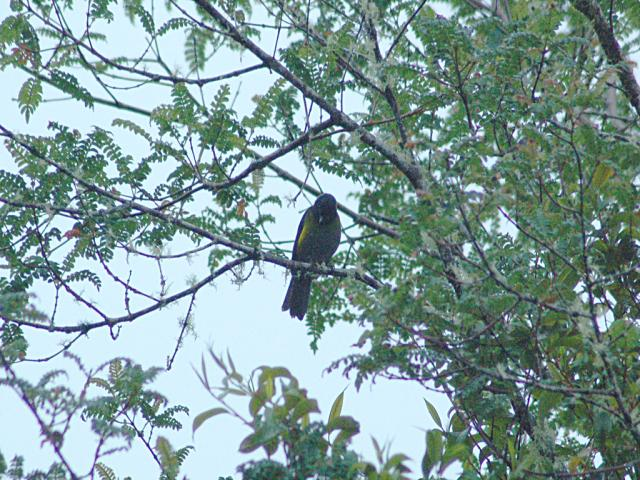Bird: (282, 192, 342, 320)
